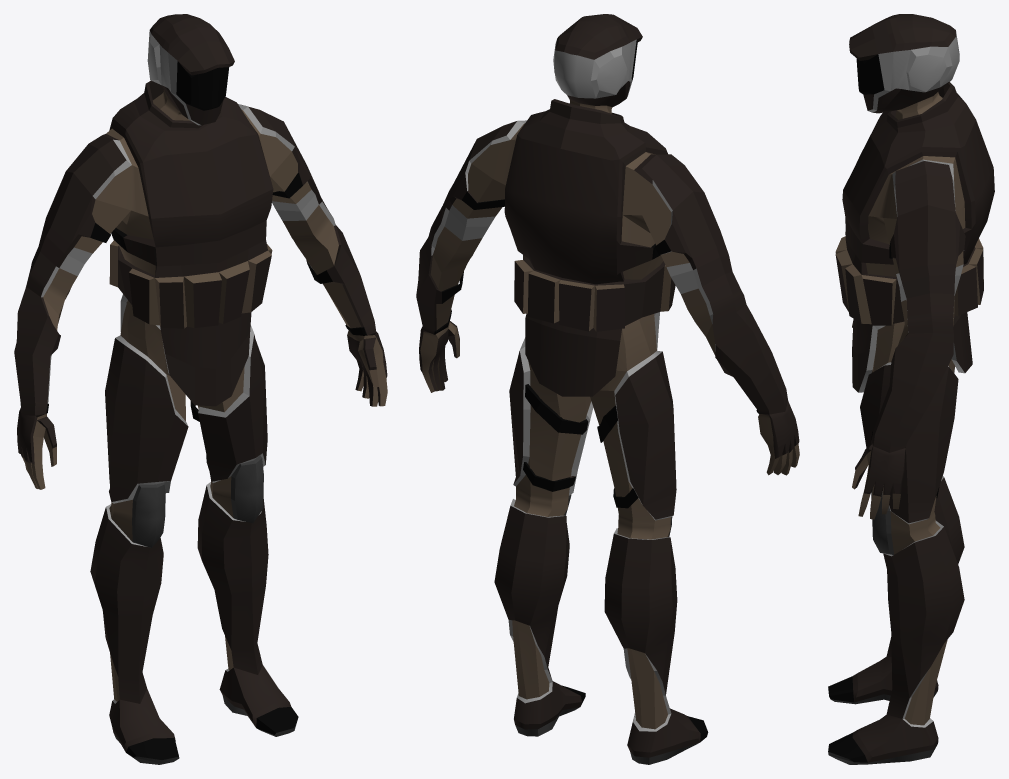
The model's file is Lambda.fbx.
3 views of the same model, side by side, from view 1: azimuth 30°, elevation 25°; view 2: azimuth 150°, elevation 25°; view 3: azimuth 270°, elevation 25° (orthographic). The views are drawn at different scales.
Parts seen in each view (by area): view 1: polySurface5; view 2: polySurface5; view 3: polySurface5.
Part boxes in pixels (box(x1,y1,x2,y2)): polySurface5: box(14, 14, 387, 764); polySurface5: box(416, 14, 799, 764); polySurface5: box(828, 14, 994, 764).
Bounding box in the file's own units: 2.27 × 4.26 × 0.9081.
